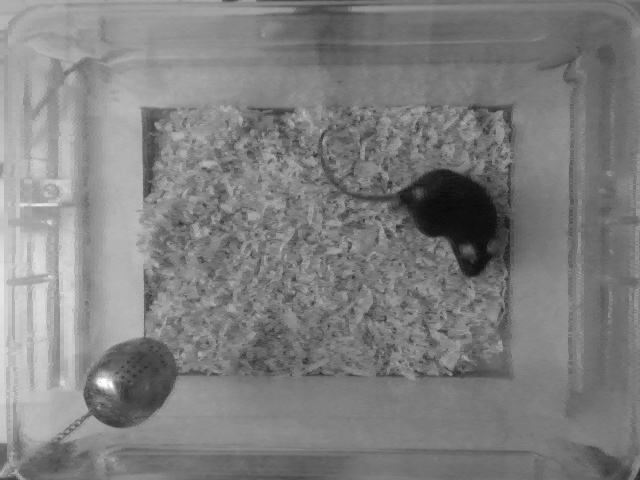mice: (316, 117, 503, 279)
